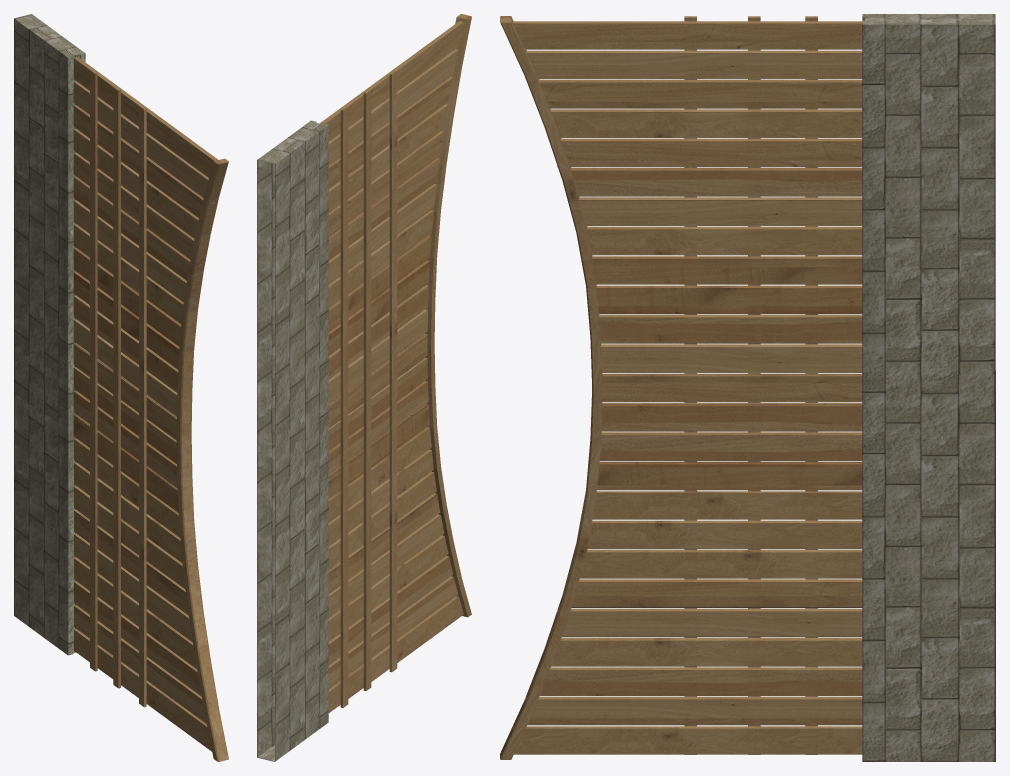
File: nt_concrete_fence_128_tall_LOD0.obj
3 views of the same model, side by side, from view 1: azimuth 30°, elevation 25°; view 2: azimuth 150°, elevation 25°; view 3: azimuth 270°, elevation 25° (orthographic). The views are drawn at different scales.
Visible parts, largest first — view 1: nt_wood_fence, nt_2020_concrete_pattern_02; view 2: nt_wood_fence, nt_2020_concrete_pattern_02; view 3: nt_wood_fence, nt_2020_concrete_pattern_02.
Part boxes in pixels (x1,y1,x2,y2): nt_wood_fence: (73,57,228,761); nt_2020_concrete_pattern_02: (14,14,85,655); nt_wood_fence: (320,14,471,712); nt_2020_concrete_pattern_02: (257,120,328,761); nt_wood_fence: (500,16,862,759); nt_2020_concrete_pattern_02: (862,14,995,761).
Size of the model in its own units: 10.16 by 325 by 198.
